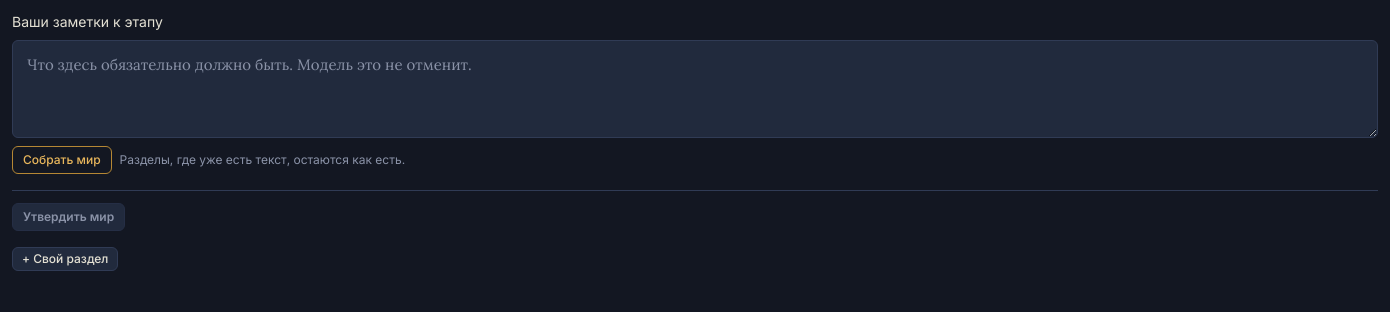
Test: DocumentStageRunner › отказ сборки виден и не оставляет экран в «идёт сборка»
The width and height of the screenshot is (1390, 312).
What coordinates should you click on to do the following:
click the button "Собрать мир"
I would click on:
 (62, 160)
Its box is [12,146,112,174].
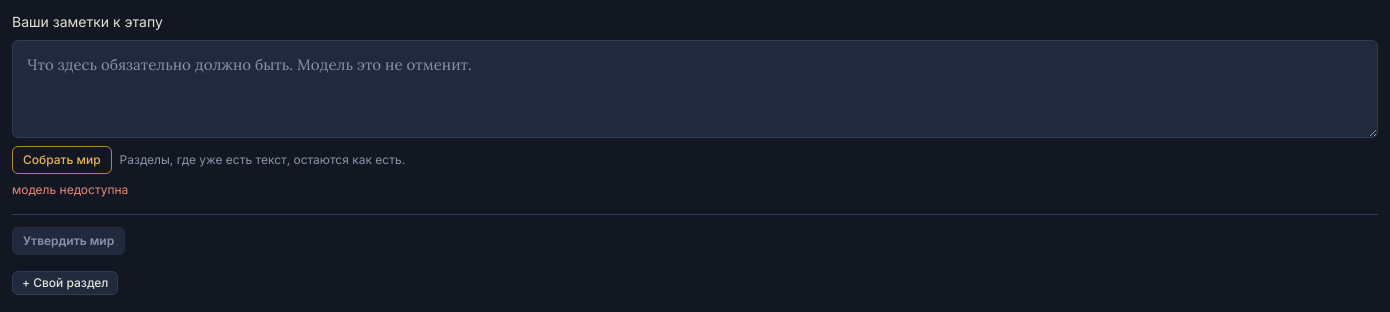
Expected: the message reads "модель недоступна", [12,182,128,197]
